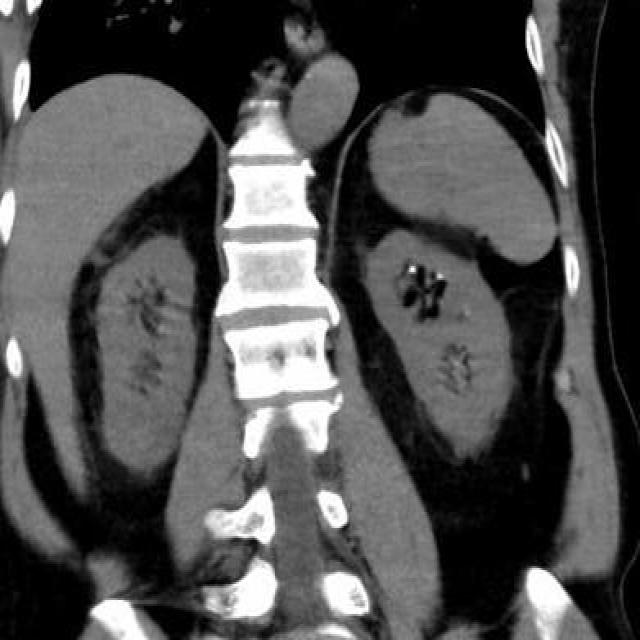Tas_Var: (405, 261, 418, 277), (436, 268, 444, 282)
